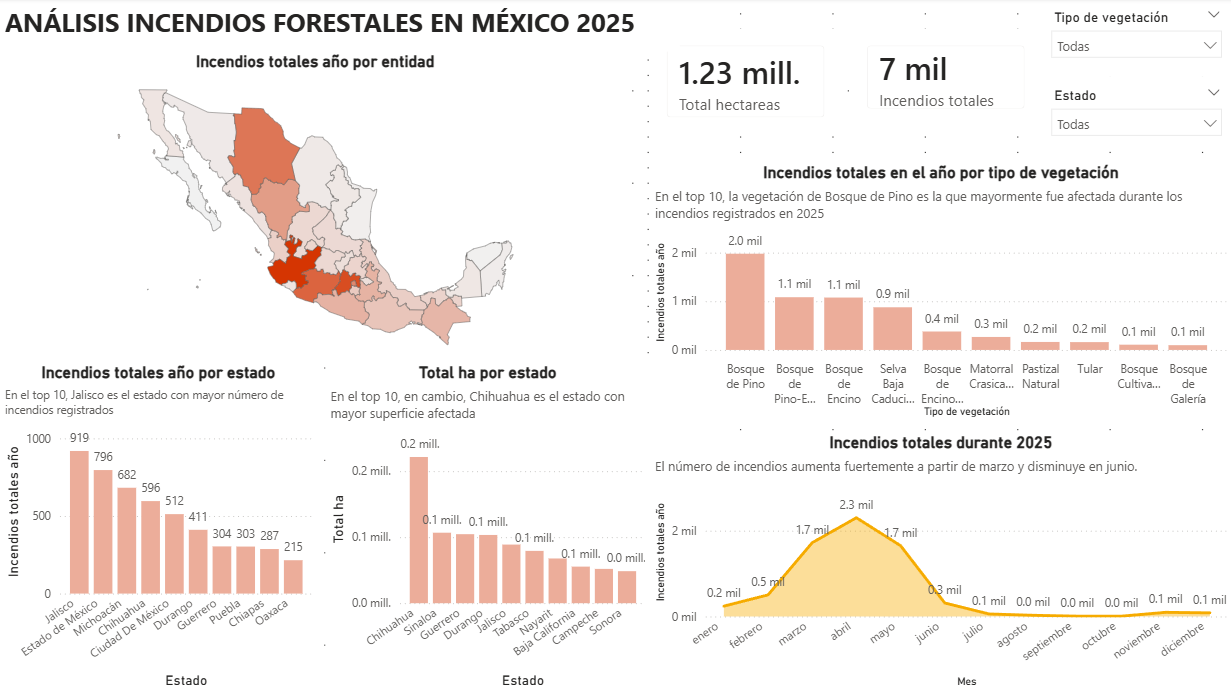

Layout of this report page (visuals, bound fields, positions):
{"tool":"powerbi","page":{"name":"Página 1","canvas":[1280,720],"ordinal":0},"visuals":[{"type":"cardVisual","fields":{"Data":["2025_Incendios_forestales.Total ha"]},"box":[675.4,32,198.9,109.7],"z":0},{"type":"clusteredColumnChart","title":"Incendios totales año por estado","fields":{"Category":["2025_Incendios_forestales.entidad"],"Y":["2025_Incendios_forestales.Incendios totales año"]},"box":[0,379.4,329.1,341.7],"z":1000},{"type":"areaChart","title":"Incendios totales durante 2025","fields":{"Category":["2025_Incendios_forestales.fecha_inicio.Variación.Jerarquía de fechas.Mes","2025_Incendios_forestales.fecha_inicio.Variación.Jerarquía de fechas.Día"],"Y":["2025_Incendios_forestales.Incendios totales año"]},"box":[675.6,452.7,604.4,267.9],"z":2000},{"type":"cardVisual","fields":{"Data":["2025_Incendios_forestales.Incendios totales año"]},"box":[883.4,32,198.9,100.6],"z":3000},{"type":"clusteredColumnChart","title":"Incendios totales en el año por tipo de vegetación","fields":{"Category":["2025_Incendios_forestales.tipo_vegetacion"],"Y":["2025_Incendios_forestales.Incendios totales año"]},"box":[675.6,171,604.4,269],"z":4000},{"type":"clusteredColumnChart","title":"Total ha por estado","fields":{"Category":["2025_Incendios_forestales.entidad"],"Y":["2025_Incendios_forestales.Total ha"]},"box":[338.3,379.4,337.1,341.7],"z":6000},{"type":"textbox","box":[0,1.1,706.3,54.9],"z":7000},{"type":"slicer","fields":{"Values":["2025_Incendios_forestales.entidad"]},"box":[1082.3,86.9,197.7,67.4],"z":8000},{"type":"slicer","fields":{"Values":["2025_Incendios_forestales.tipo_vegetacion"]},"box":[1082.3,5.7,197.7,75.4],"z":9000},{"type":"shapeMap","fields":{"Value":["2025_Incendios_forestales.Incendios totales año"],"Category":["2025_Incendios_forestales.entidad"]},"box":[0,56,654.9,323.4],"z":9001}]}

Visuals, with their boxes in screenshot pixels (x1, y1, x2, y2), scaled from the page's 1280x720 canvas onto the 1231x690 screenshot:
cardVisual - 2025_Incendios_forestales.Total ha: crop(650, 31, 841, 136)
"Incendios totales año por estado" clusteredColumnChart: crop(0, 364, 317, 689)
"Incendios totales durante 2025" areaChart: crop(650, 434, 1230, 689)
cardVisual - 2025_Incendios_forestales.Incendios totales año: crop(850, 31, 1041, 127)
"Incendios totales en el año por tipo de vegetación" clusteredColumnChart: crop(650, 164, 1230, 422)
"Total ha por estado" clusteredColumnChart: crop(325, 364, 650, 689)
textbox: crop(0, 1, 679, 54)
slicer - 2025_Incendios_forestales.entidad: crop(1041, 83, 1230, 148)
slicer - 2025_Incendios_forestales.tipo_vegetacion: crop(1041, 5, 1230, 78)
shapeMap - 2025_Incendios_forestales.Incendios totales año x 2025_Incendios_forestales.entidad: crop(0, 54, 630, 364)
